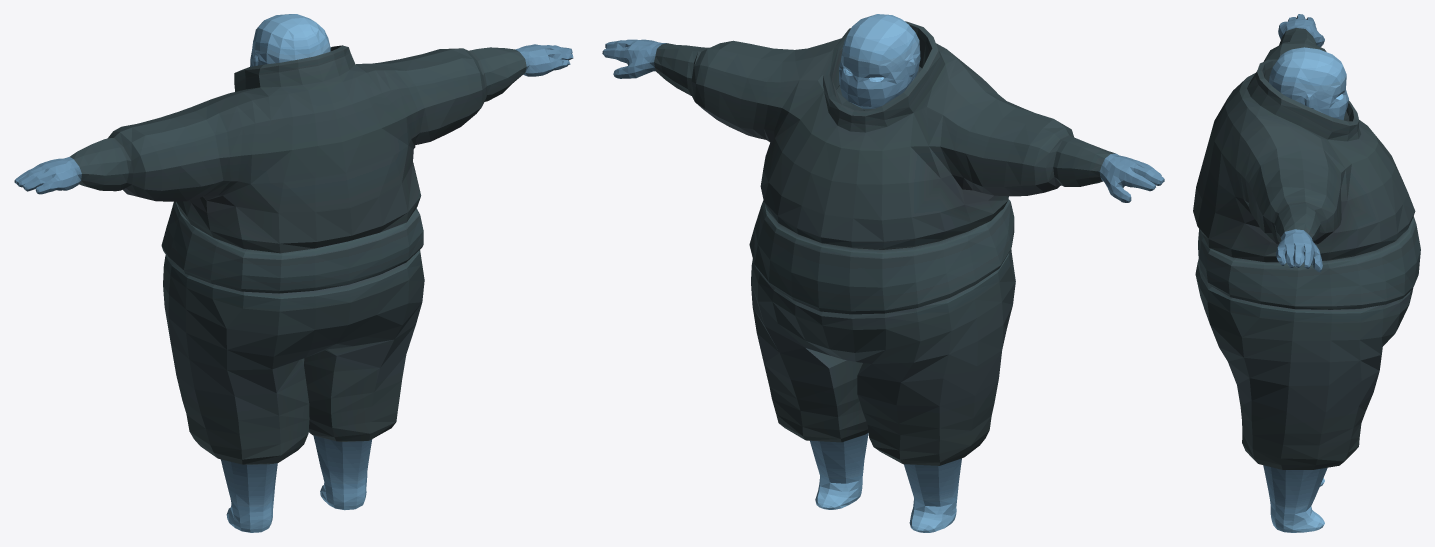
File: NPC_MerchantBody.glb
The picture shows the model from 3 angles, left to right: view 1: azimuth 30°, elevation 25°; view 2: azimuth 150°, elevation 25°; view 3: azimuth 270°, elevation 25°; orthographic projection. The views are drawn at different scales.
Parts seen in each view (by area): view 1: NPC_MerchantBody; view 2: NPC_MerchantBody; view 3: NPC_MerchantBody.
Part boxes in pixels (x1,y1,x2,y2): NPC_MerchantBody: (14,14,573,532); NPC_MerchantBody: (602,14,1164,532); NPC_MerchantBody: (1193,14,1420,532).
Size of the model in its own units: 16.33 by 13.84 by 6.3.
Materials: 1 (1 with a texture image).
